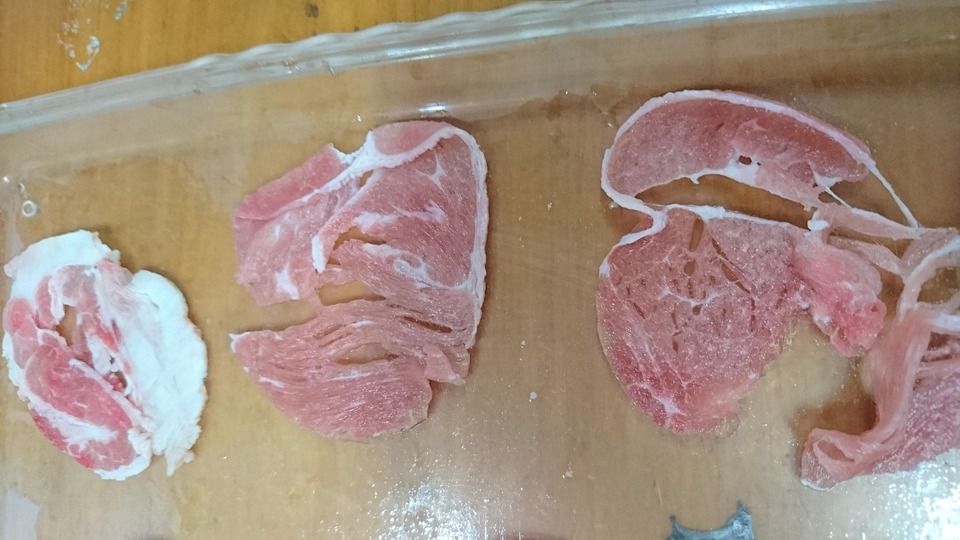restructured meat: (586, 61, 956, 497), (226, 101, 500, 444), (5, 233, 208, 473)
